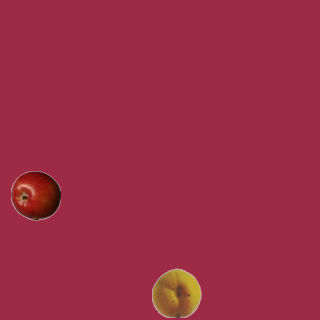Apple Braeburn: (10, 170, 60, 220)
Peach 2: (151, 267, 201, 317)
